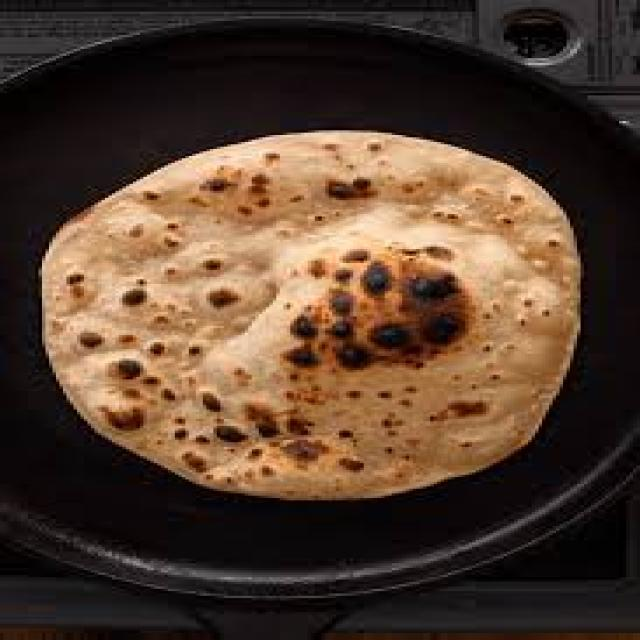ROTI: (41, 129, 582, 503)
